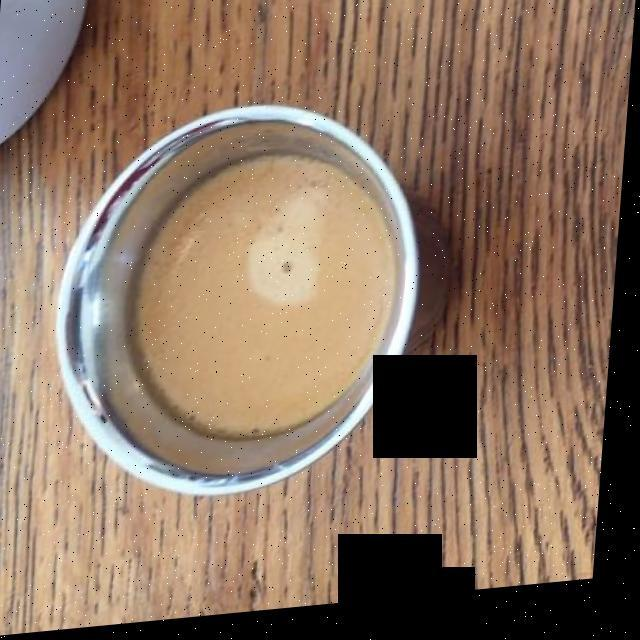espresso: (131, 157, 396, 444)
